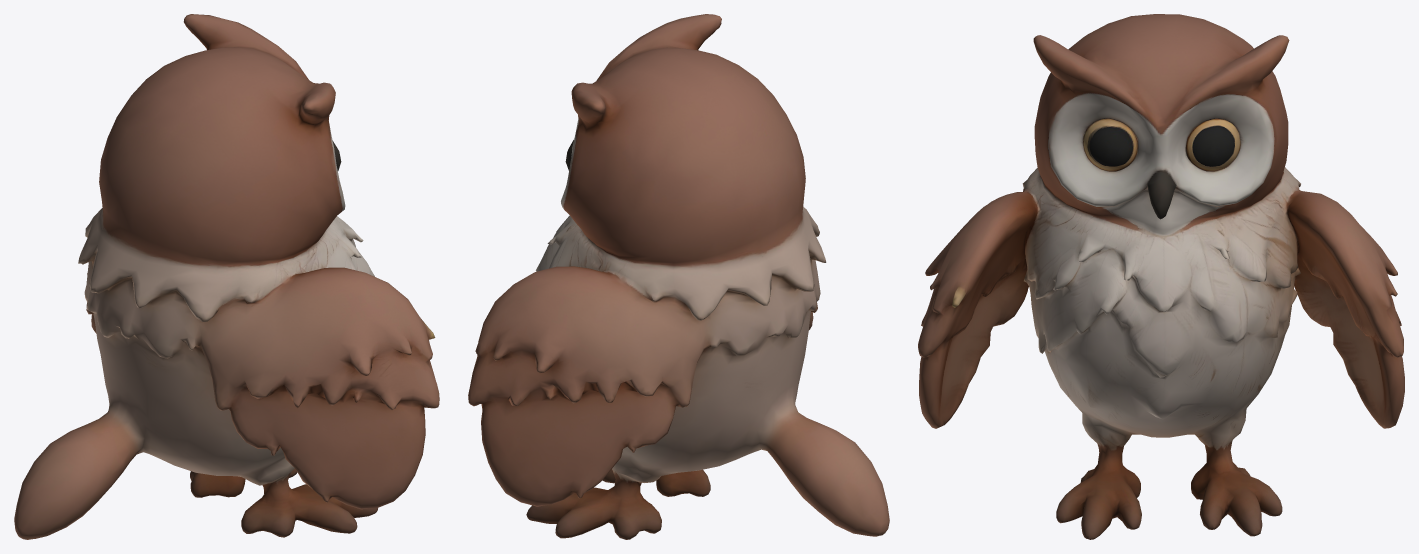
File: r33-owl.glb
3 renders of one model, left to right at view 1: azimuth 30°, elevation 25°; view 2: azimuth 150°, elevation 25°; view 3: azimuth 270°, elevation 25°, orthographic. The views are drawn at different scales.
Parts seen in each view (by area): view 1: tripo_node_7e46baf9-66fa-4790-9f5a-15afb26e0e74; view 2: tripo_node_7e46baf9-66fa-4790-9f5a-15afb26e0e74; view 3: tripo_node_7e46baf9-66fa-4790-9f5a-15afb26e0e74.
Boxes of the visible parts, <box> form: tripo_node_7e46baf9-66fa-4790-9f5a-15afb26e0e74: <box>14,14,439,539</box>; tripo_node_7e46baf9-66fa-4790-9f5a-15afb26e0e74: <box>468,14,889,539</box>; tripo_node_7e46baf9-66fa-4790-9f5a-15afb26e0e74: <box>918,14,1404,539</box>.
Size of the model in its own units: 0.7832 by 0.998 by 0.9551.
1 material, 1 textured.
